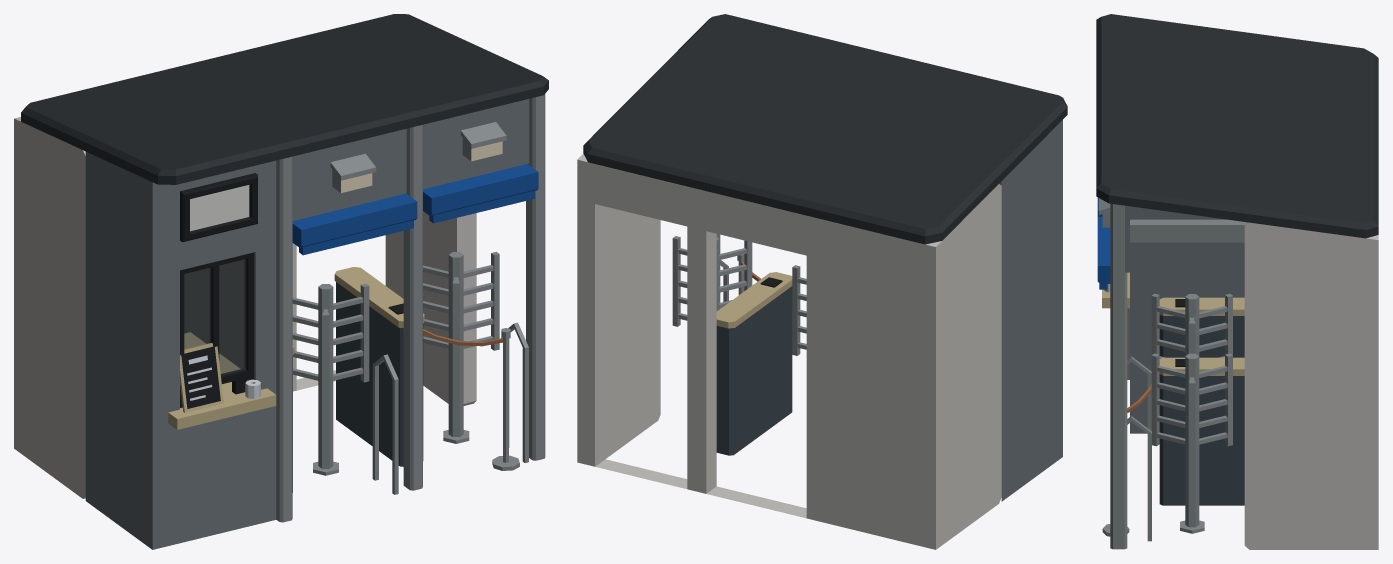
The model's file is turnstile-bank-9294b4.glb.
3 views of the same model, side by side, from view 1: azimuth 30°, elevation 25°; view 2: azimuth 150°, elevation 25°; view 3: azimuth 270°, elevation 25° (orthographic). The views are drawn at different scales.
Visible parts, largest first — view 1: bank, drum-1-mesh, drum-2-mesh, glazing, price-board-mesh, queue-rail-mesh; view 2: bank, drum-2-mesh, drum-1-mesh; view 3: bank, drum-2-mesh, drum-1-mesh.
Part boxes in pixels (x1,y1,x2,y2): bank: [14, 14, 548, 549]; drum-1-mesh: [292, 283, 369, 475]; drum-2-mesh: [423, 251, 499, 443]; glazing: [184, 259, 246, 375]; price-board-mesh: [180, 343, 223, 412]; queue-rail-mesh: [423, 328, 519, 470]; bank: [577, 14, 1067, 549]; drum-2-mesh: [672, 236, 752, 326]; drum-1-mesh: [792, 265, 806, 355]; bank: [1096, 14, 1378, 549]; drum-2-mesh: [1151, 353, 1232, 533]; drum-1-mesh: [1151, 293, 1232, 358].
Size of the model in its own units: 3 by 2.81 by 2.
